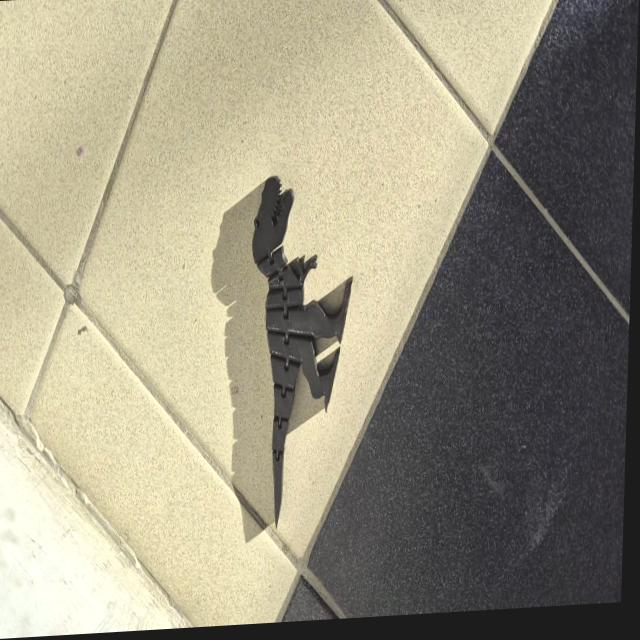dino: (243, 167, 358, 532)
